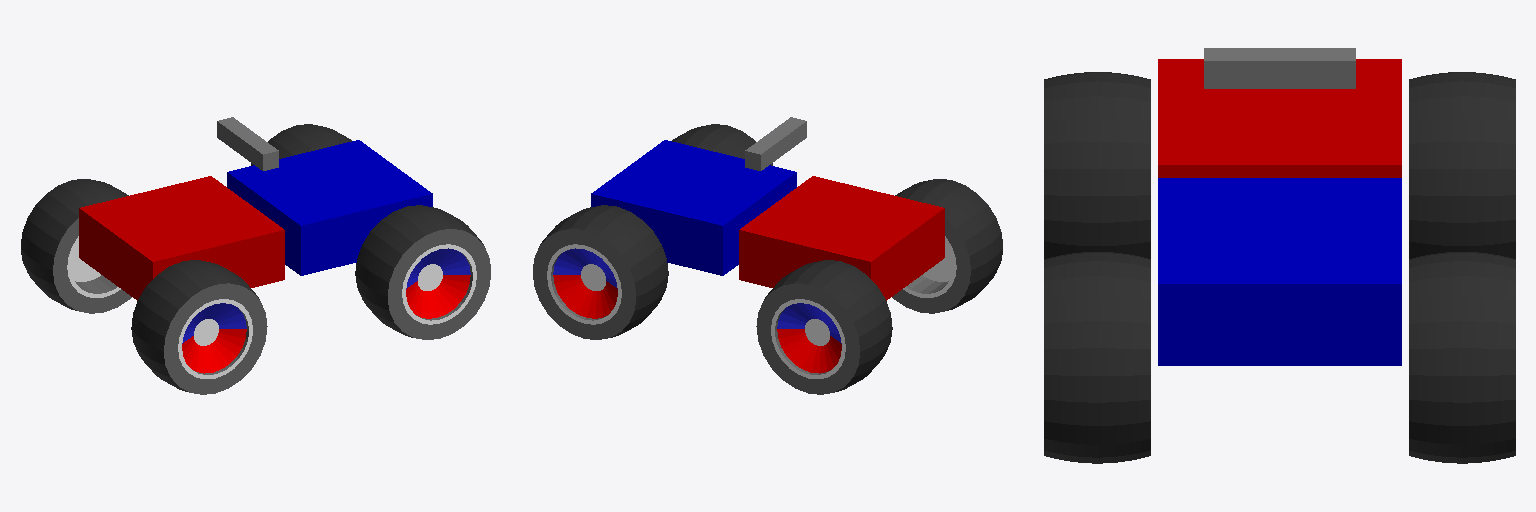
robot.urdf — beagle:
<?xml version="1.0"?>
<robot name="beagle" xmlns:xacro="http://ros.org/wiki/xacro">

  <material name="blue">
    <color rgba="0.0 0.0 0.8 1.0"/>
  </material>
  <material name="grey">
    <color rgba="0.5 0.5 0.5 1.0"/>
  </material>
  <material name="red">
    <color rgba="0.8 0.0 0.0 1.0"/>
  </material>
  <material name="indigo">
    <color rgba="0.33 0.0 0.5 1.0"/>
  </material>
  <material name="yellow">
    <color rgba="1.0 1.0 0.0 1.0"/>
  </material>
  <material name="white">
    <color rgba="1.0 1.0 1.0 1.0"/>
  </material>
  <material name="black">
    <color rgba="0.01 0.01 0.01 0.9"/>
  </material>

  <link name="base_link">
    <origin xyz="0 0 0.07" rpy="0 0 0"/>
  </link>

  <joint name="front_body_joint" type="revolute">
    <parent link="base_link"/>
    <child link="front_link"/>
    <origin xyz="0 0 0.04" rpy="0 0 0"/>
    <axis xyz="1 0 0"/>
    <limit lower="-0.3927" upper="0.3927" effort="10" velocity="1.0"/>
  </joint>

  <joint name="rear_body_joint" type="revolute">
    <parent link="base_link"/>
    <child link="rear_link"/>
    <origin xyz="0 0 0.04" rpy="0 0 0"/>
    <axis xyz="1 0 0"/>
    <limit lower="-0.3927" upper="0.3927" effort="10" velocity="1.0"/>
  </joint>

  <link name="front_link">
    <visual>
      <origin xyz="0.0925 0 0" rpy="0 0 0"/>
      <geometry>
        <box size="0.165 0.16 0.06"/>
      </geometry>
      <material name="blue"/>
    </visual>
  </link>

  <link name="rear_link">
    <visual>
      <origin xyz="-0.0925 0 0" rpy="0 0 0"/>
      <geometry>
        <box size="0.165 0.16 0.06"/>
      </geometry>
      <material name="red"/>
    </visual>
  </link>

  <joint name="front_left_wheel_joint" type="continuous">
    <parent link="front_link"/>
    <child link="front_left_wheel"/>
    <origin xyz="0.14 0.12 -0.04" rpy="-1.5707 0 0"/>
    <axis xyz="0 0 1"/>
  </joint>

  <joint name="front_right_wheel_joint" type="continuous">
    <parent link="front_link"/>
    <child link="front_right_wheel"/>
    <origin xyz="0.14 -0.12 -0.04" rpy="-1.5707 0 0"/>
    <axis xyz="0 0 1"/>
  </joint>

  <joint name="rear_left_wheel_joint" type="continuous">
    <parent link="rear_link"/>
    <child link="rear_left_wheel"/>
    <origin xyz="-0.14 0.12 -0.04" rpy="-1.5707 0 0"/>
    <axis xyz="0 0 1"/>
  </joint>

  <joint name="rear_right_wheel_joint" type="continuous">
    <parent link="rear_link"/>
    <child link="rear_right_wheel"/>
    <origin xyz="-0.14 -0.12 -0.04" rpy="-1.5707 0 0"/>
    <axis xyz="0 0 1"/>
  </joint>

  <link name="front_left_wheel">
    <visual>
      <origin xyz="0 0 0" rpy="0 0 0"/>
      <geometry>
        <mesh filename="package://rosrider_description/meshes/rover_wheel_left.dae" scale="1 1 1"/>
      </geometry>
    </visual>
  </link>

  <link name="rear_left_wheel">
    <visual>
      <origin xyz="0 0 0" rpy="0 0 0"/>
      <geometry>
        <mesh filename="package://rosrider_description/meshes/rover_wheel_left.dae" scale="1 1 1"/>
      </geometry>
    </visual>
  </link>

  <link name="front_right_wheel">
    <visual>
      <origin xyz="0 0 0" rpy="0 0 0"/>
      <geometry>
        <mesh filename="package://rosrider_description/meshes/rover_wheel_right.dae" scale="1 1 1"/>
      </geometry>
    </visual>
  </link>

  <link name="rear_right_wheel">
    <visual>
      <origin xyz="0 0 0" rpy="0 0 0"/>
      <geometry>
        <mesh filename="package://rosrider_description/meshes/rover_wheel_right.dae" scale="1 1 1"/>
      </geometry>
    </visual>
  </link>

  <joint name="scan_joint" type="fixed">
    <parent link="front_link"/>
    <child link="base_scan_3d"/>
    <origin xyz="0 0 0.1" rpy="0 0 0"/>
  </joint>
  <link name="base_scan_3d">
    <visual>
      <origin xyz="-0.01 0 0" rpy="0 0 0"/>
      <geometry>
        <box size="0.02 0.1 0.02"/>
      </geometry>
      <material name="grey"/>
    </visual>
  </link>

  <joint name="imu_joint" type="fixed">
    <parent link="front_link"/>
    <child link="imu_link"/>
    <origin xyz="0.14 0 0" rpy="0 0 0"/>
  </joint>
  <link name="imu_link">
    <visual>
      <origin xyz="0 0 0" rpy="0 0 0"/>
      <geometry>
        <mesh filename="package://rosrider_description/meshes/fximu3e.dae" scale="1 1 1"/>
      </geometry>
    </visual>
  </link>

</robot>

--- Render facts (derived) ---
3 views of the same robot in one strip: view 1: azimuth 30°, elevation 25°; view 2: azimuth 150°, elevation 25°; view 3: azimuth 270°, elevation 25° (orthographic).
Robot: beagle — 9 links, 8 joints (2 revolute, 4 continuous, 2 fixed); root link base_link; default pose: every joint at zero.
Links seen in each view (by area): view 1: rear_link, front_link, rear_right_wheel, front_right_wheel, rear_left_wheel, base_scan_3d, front_left_wheel; view 2: rear_link, front_link, rear_left_wheel, front_left_wheel, rear_right_wheel, base_scan_3d, front_right_wheel; view 3: front_link, rear_link, front_left_wheel, front_right_wheel, rear_left_wheel, rear_right_wheel, base_scan_3d.
Boxes of the visible links, x1,y1,x2,y2 form: rear_link: [79, 176, 284, 300]; front_link: [227, 140, 432, 275]; rear_right_wheel: [131, 260, 267, 394]; front_right_wheel: [355, 205, 490, 339]; rear_left_wheel: [21, 179, 131, 313]; base_scan_3d: [217, 117, 278, 170]; front_left_wheel: [251, 124, 351, 165]; rear_link: [739, 176, 944, 300]; front_link: [591, 140, 796, 275]; rear_left_wheel: [756, 260, 892, 394]; front_left_wheel: [533, 205, 668, 339]; rear_right_wheel: [892, 179, 1002, 313]; base_scan_3d: [745, 117, 806, 170]; front_right_wheel: [672, 124, 772, 165]; front_link: [1158, 178, 1401, 365]; rear_link: [1158, 59, 1401, 177]; front_left_wheel: [1409, 252, 1515, 463]; front_right_wheel: [1044, 252, 1150, 463]; rear_left_wheel: [1409, 72, 1515, 258]; rear_right_wheel: [1044, 72, 1150, 258]; base_scan_3d: [1204, 48, 1355, 88].
Size in the robot's own frame: 0.42 by 0.31 by 0.22 metres.
Meshes: 3 distinct files referenced, 5 mesh visuals loaded (3 Collada DAE).
